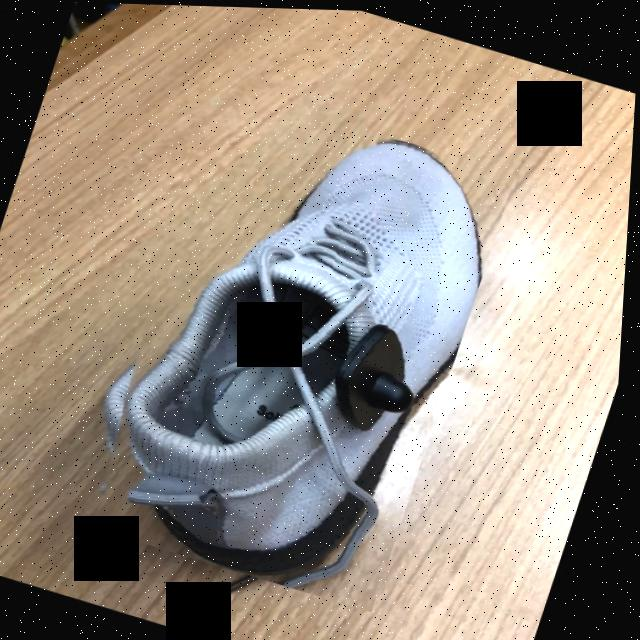shoe: (124, 139, 485, 581)
